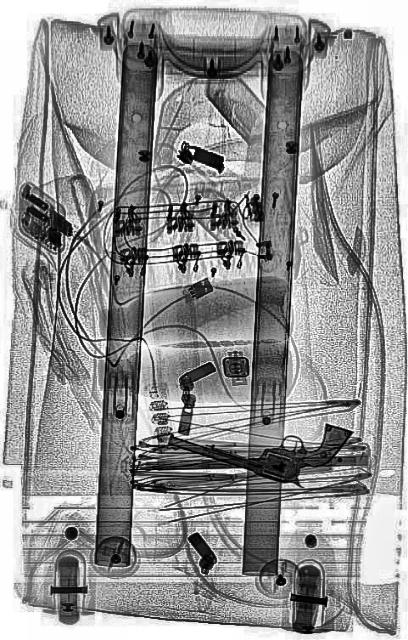Gun: (164, 375, 352, 497)
